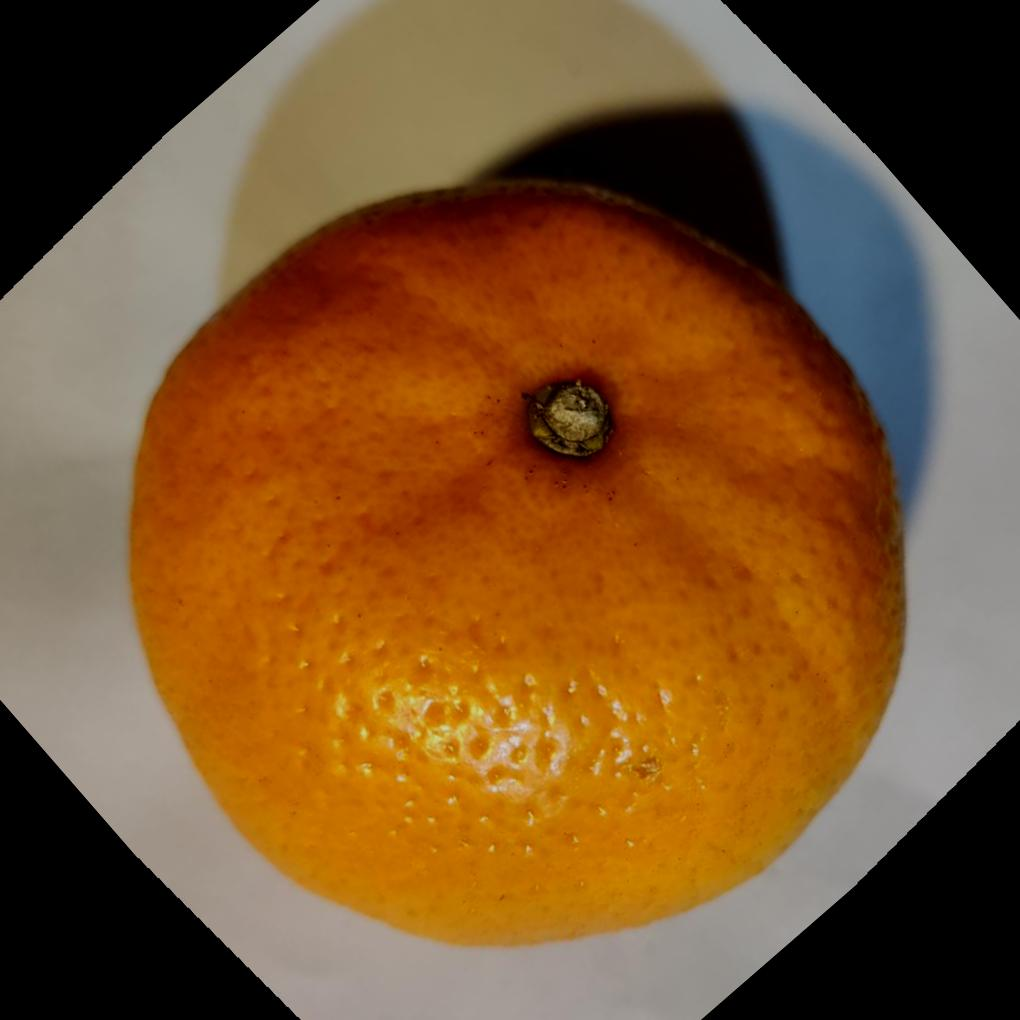FreshGuava: (124, 176, 906, 954)
